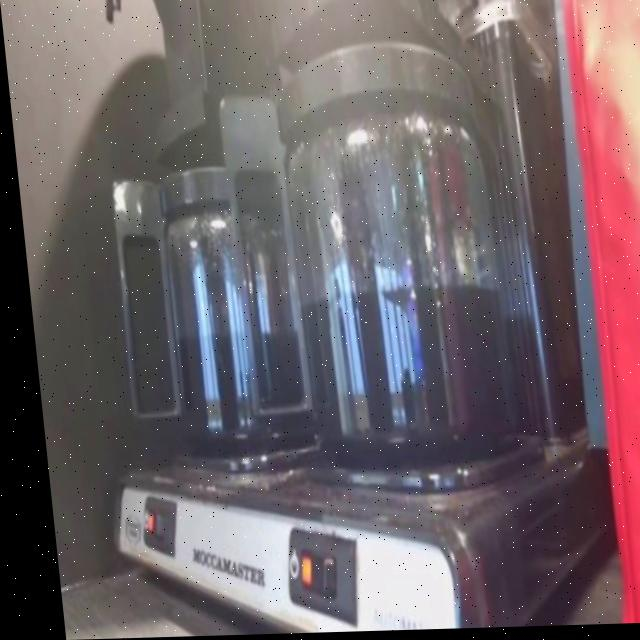coffee: (263, 42, 526, 485), (140, 159, 311, 463)
